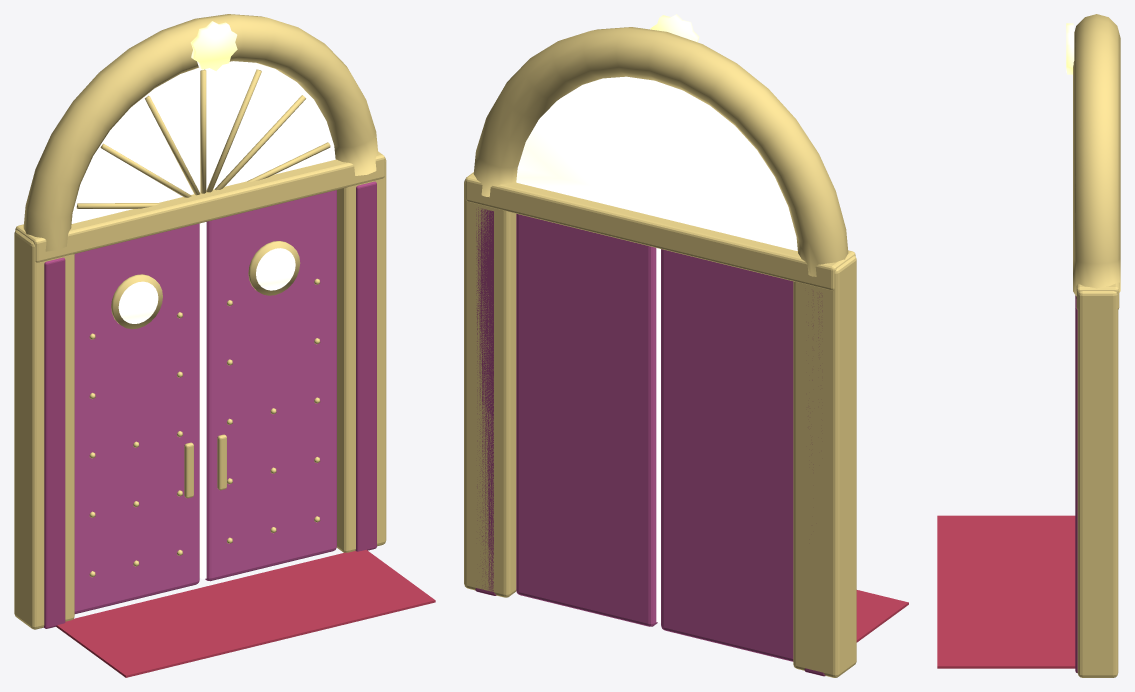
File: pc_exit_door.glb
3 renders of one model, left to right at view 1: azimuth 30°, elevation 25°; view 2: azimuth 150°, elevation 25°; view 3: azimuth 270°, elevation 25°, orthographic. The views are drawn at different scales.
Visible parts, largest first — view 1: pc_exit_door; view 2: pc_exit_door; view 3: pc_exit_door.
Part boxes in pixels (x1,y1,x2,y2): pc_exit_door: [14, 14, 435, 677]; pc_exit_door: [464, 14, 908, 677]; pc_exit_door: [937, 14, 1120, 677].
Bounding box in the file's own units: 3.44 × 5.27 × 1.54.
